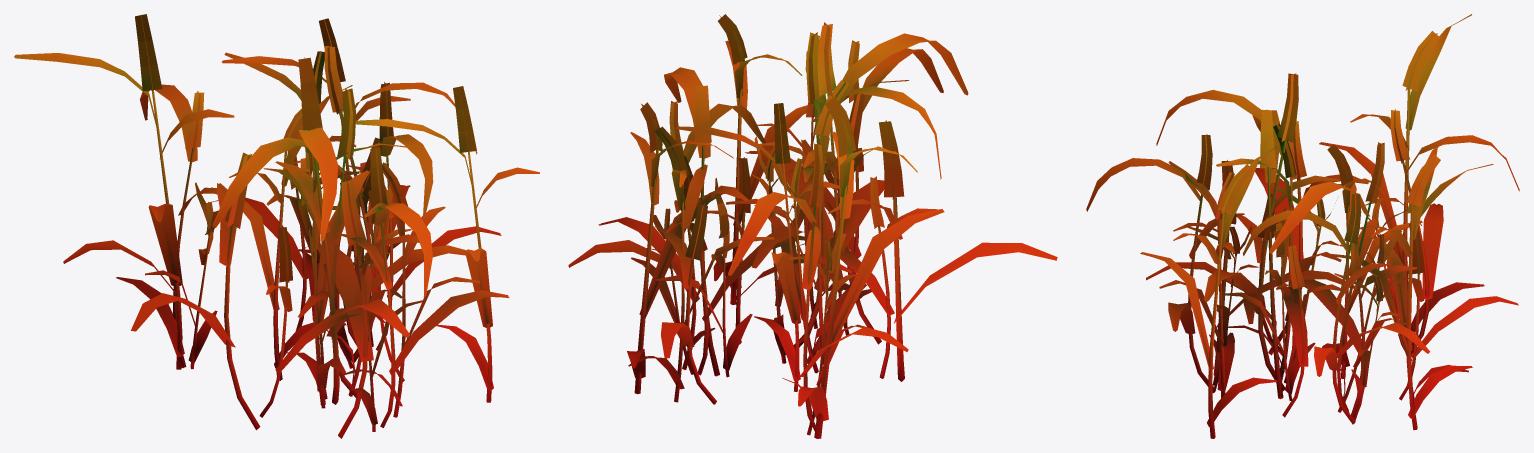
File: SM_Wheat_3.fbx
The picture shows the model from 3 angles, left to right: view 1: azimuth 30°, elevation 25°; view 2: azimuth 150°, elevation 25°; view 3: azimuth 270°, elevation 25°; orthographic projection. The views are drawn at different scales.
Parts seen in each view (by area): view 1: SM_Wheat_3; view 2: SM_Wheat_3; view 3: SM_Wheat_3.
Part boxes in pixels (left/top/right/bottom): SM_Wheat_3: left=14, top=14, right=539, bottom=438; SM_Wheat_3: left=568, top=14, right=1057, bottom=438; SM_Wheat_3: left=1086, top=14, right=1519, bottom=438.
Size of the model in its own units: 2.07 by 1.72 by 2.13.
